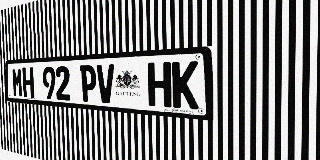2: (55, 66, 70, 100)
9: (42, 66, 56, 99)
H: (148, 62, 172, 108), (22, 67, 34, 98)
K: (172, 61, 199, 109)
M: (12, 68, 23, 97)
P: (80, 65, 97, 102)
V: (96, 64, 115, 104)
